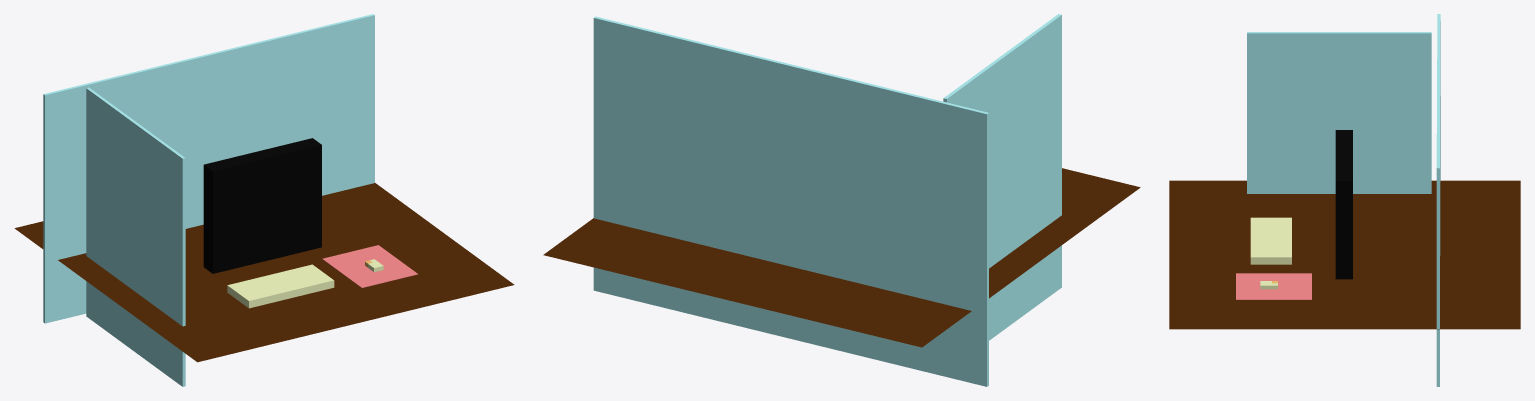
File: desk_scene_6.glb
3 views of the same model, side by side, from view 1: azimuth 30°, elevation 25°; view 2: azimuth 150°, elevation 25°; view 3: azimuth 270°, elevation 25° (orthographic). The views are drawn at different scales.
Parts seen in each view (by area): view 1: Cubical Wall side 2, Desktop, Cubical Wall side, Computer, Keyboard, MousePad; view 2: Cubical Wall side 2, Desktop, Cubical Wall side; view 3: Desktop, Cubical Wall side, Computer, Keyboard, MousePad, Cubical Wall side 2.
Boxes of the visible parts, x1,y1,x2,y2 form: Cubical Wall side 2: [43, 14, 374, 323]; Desktop: [14, 183, 514, 362]; Cubical Wall side: [86, 87, 185, 386]; Computer: [203, 138, 321, 273]; Keyboard: [227, 264, 334, 308]; MousePad: [322, 245, 417, 287]; Cubical Wall side 2: [593, 16, 988, 386]; Desktop: [543, 168, 1140, 347]; Cubical Wall side: [943, 14, 1061, 340]; Desktop: [1169, 180, 1520, 329]; Cubical Wall side: [1247, 32, 1431, 193]; Computer: [1335, 130, 1352, 279]; Keyboard: [1250, 217, 1291, 264]; MousePad: [1236, 273, 1311, 299]; Cubical Wall side 2: [1436, 14, 1440, 386].
Bounding box in the file's own units: 7.75 × 5.12 × 7.45.
